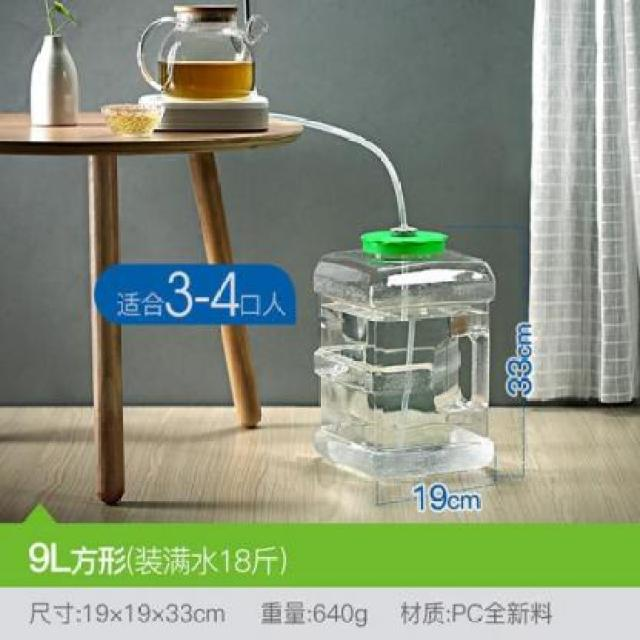coolerbottle: (310, 241, 504, 484)
